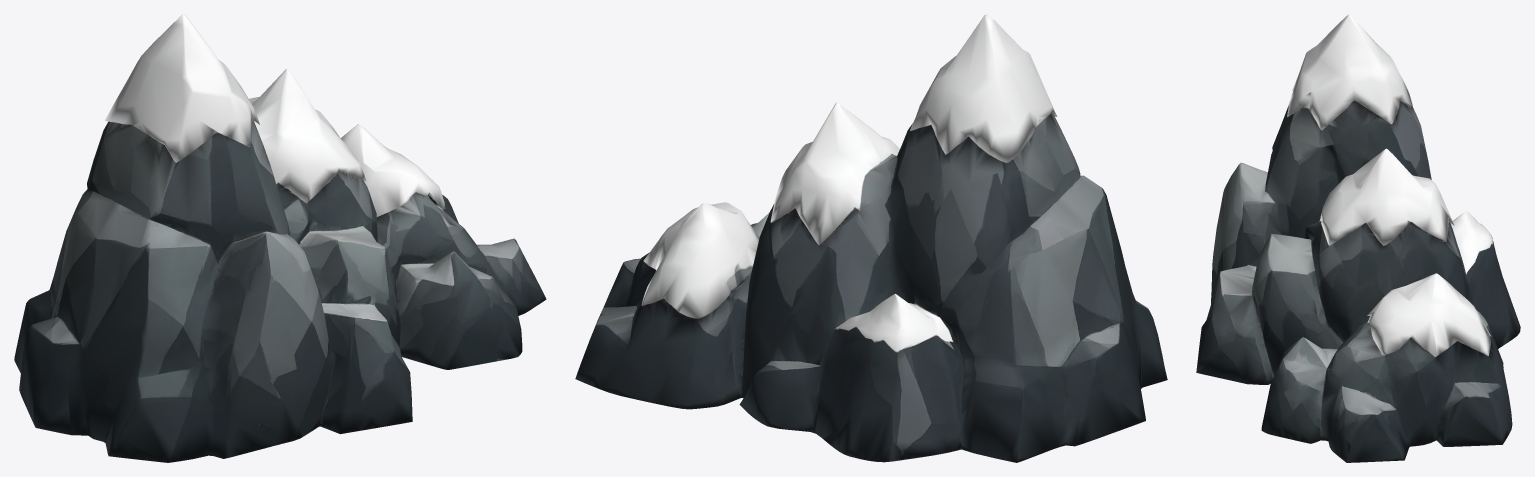
Rendered from montagne2.glb.
The picture shows the model from 3 angles, left to right: view 1: azimuth 30°, elevation 25°; view 2: azimuth 150°, elevation 25°; view 3: azimuth 270°, elevation 25°; orthographic projection. The views are drawn at different scales.
Visible parts, largest first — view 1: mesh_node; view 2: mesh_node; view 3: mesh_node.
Boxes of the visible parts, left/top/right/bottom form: mesh_node: left=14, top=14, right=546, bottom=462; mesh_node: left=575, top=14, right=1167, bottom=462; mesh_node: left=1196, top=14, right=1520, bottom=462.
Bounding box in the file's own units: 1.9 × 1.31 × 1.27.
Materials: 1 (1 with a texture image).
